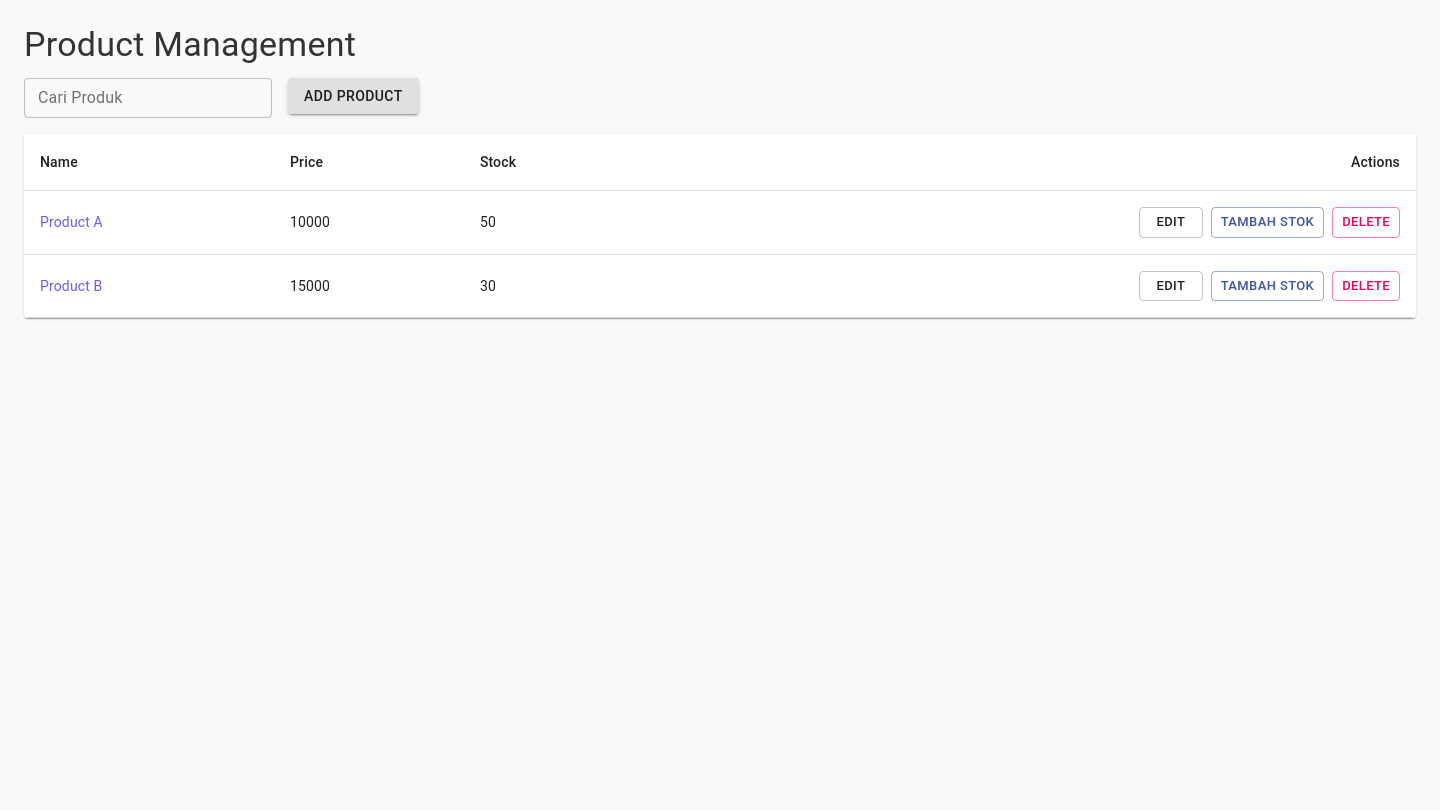
Scenario: ProductManagement Component › opens edit product dialog
This screenshot has width=1440, height=810.
Expected: the text "Product A" is shown, [40, 214, 103, 230]
Click the button "Edit" in the row of "Product A": (1171, 222) [1139, 207, 1203, 238]
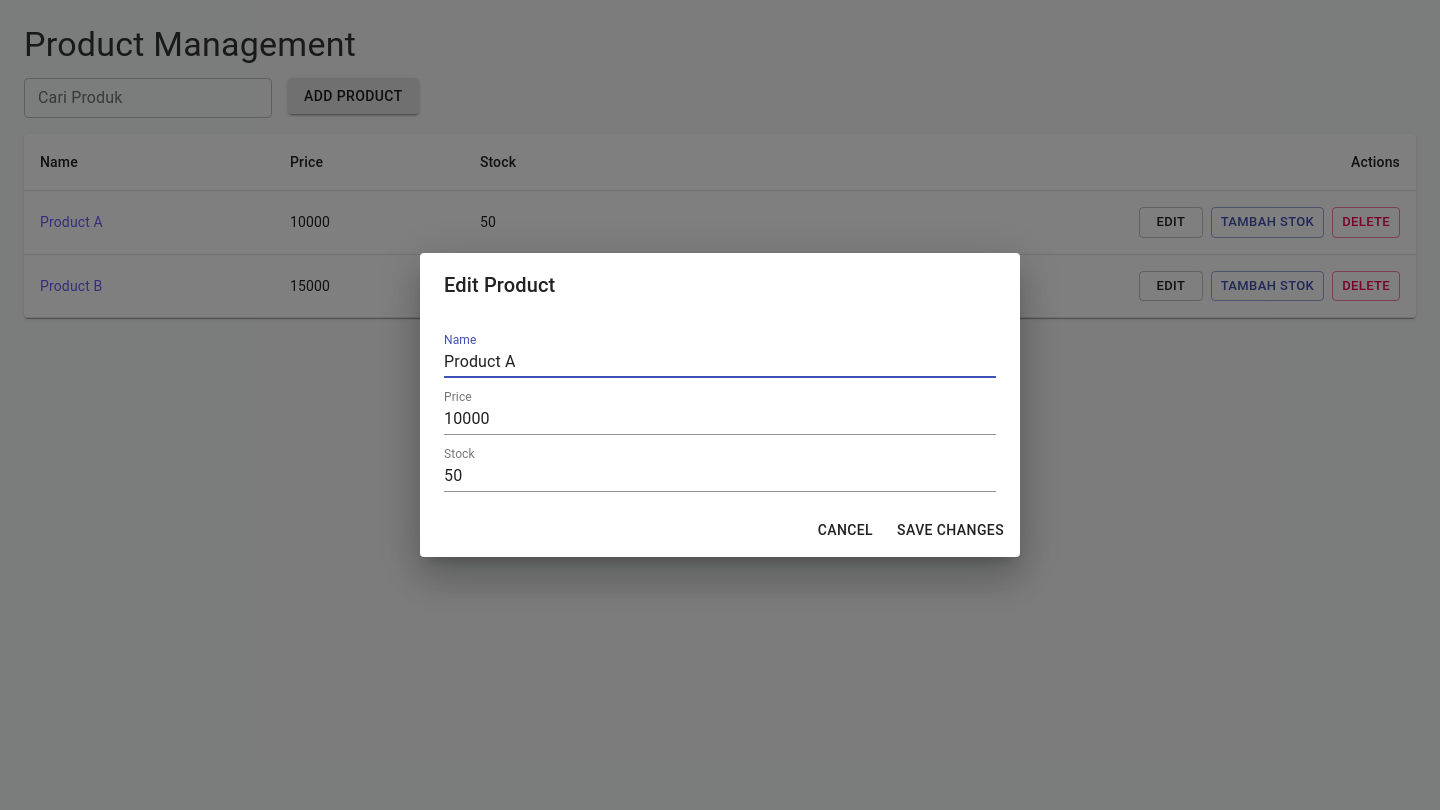
Expected: the heading "Edit Product" is shown, [444, 273, 555, 297]
Expected: the 1st field showing "Product A" is shown, [444, 349, 996, 378]
